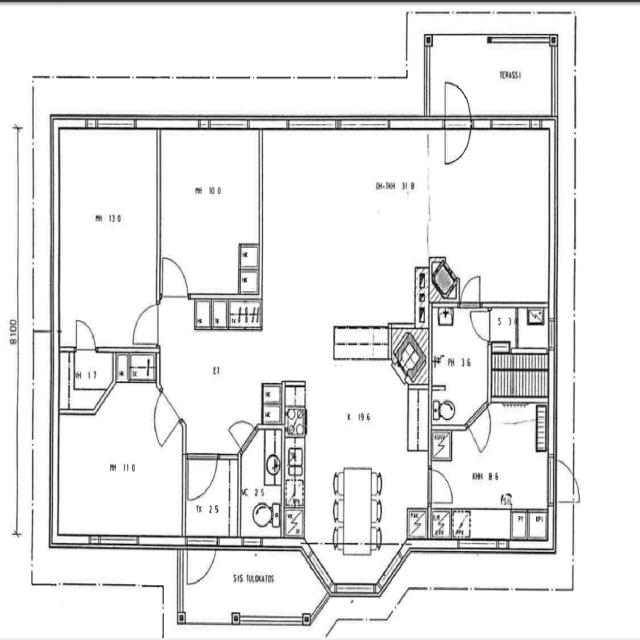door: (440, 77, 472, 170), (543, 452, 585, 510), (150, 387, 180, 455), (184, 447, 220, 502), (158, 254, 193, 306), (425, 462, 461, 509), (186, 534, 216, 589), (464, 304, 499, 350), (225, 408, 258, 454), (467, 406, 498, 454), (130, 302, 158, 350), (458, 268, 486, 310), (74, 316, 104, 355)
window: (280, 111, 400, 139), (488, 109, 546, 138), (74, 107, 140, 132), (448, 530, 512, 555), (193, 113, 257, 137), (84, 527, 140, 554), (306, 537, 334, 590), (378, 546, 405, 600), (326, 576, 378, 602), (544, 310, 560, 356), (240, 534, 264, 550)
zone: (253, 124, 438, 331), (282, 333, 424, 539), (420, 125, 558, 310), (53, 122, 159, 351), (56, 398, 181, 544), (156, 125, 260, 298), (428, 426, 554, 551), (428, 301, 490, 423), (489, 306, 552, 402), (235, 439, 285, 529), (54, 346, 112, 412)
